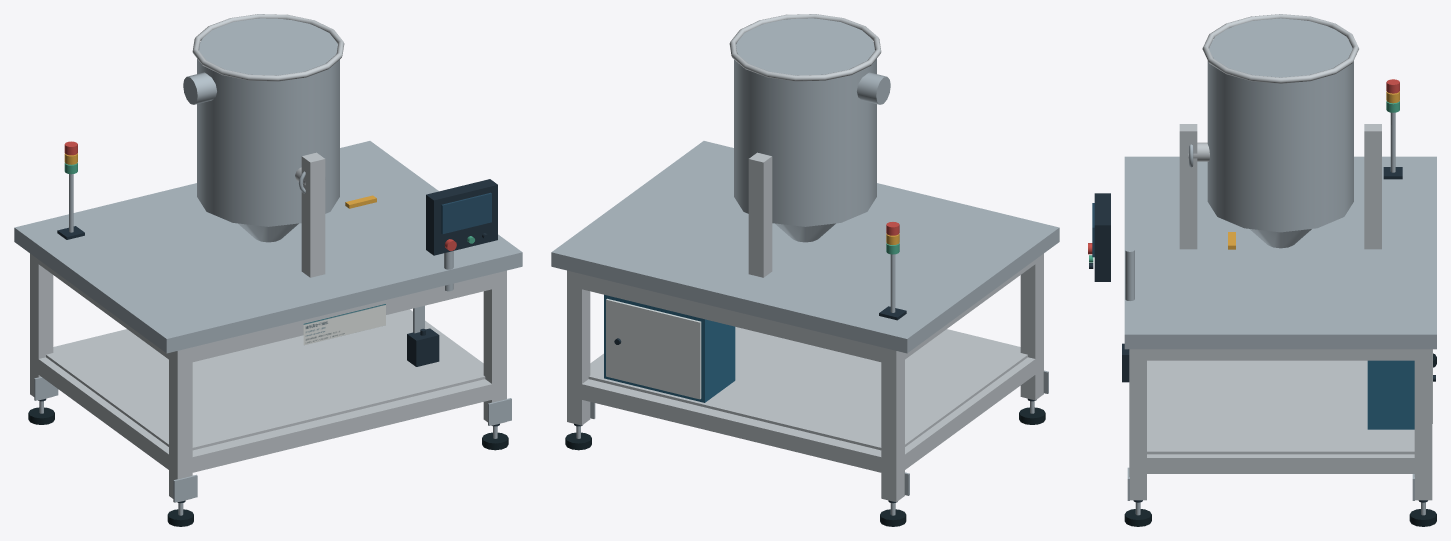
The model's file is conical-vacuum-dryer.glb.
3 views of the same model, side by side, from view 1: azimuth 30°, elevation 25°; view 2: azimuth 150°, elevation 25°; view 3: azimuth 270°, elevation 25° (orthographic). The views are drawn at different scales.
Parts seen in each view (by area): view 1: ClosedMachineBed_28, LowerShelf_29, ProcessShell_50, SlottedExtrusion_22, SlottedExtrusion_23, SlottedExtrusion_8, SlottedExtrusion_24, SlottedExtrusion_49, ConsoleBack_34, SlottedExtrusion_18, SlottedExtrusion_3, ServiceFlange_52 (+6 smaller); view 2: ClosedMachineBed_28, ProcessShell_50, LowerShelf_29, BackDoor_31, SlottedExtrusion_20, SlottedExtrusion_21, SlottedExtrusion_3, Cabinet_30, SlottedExtrusion_13, SlottedExtrusion_24, SlottedExtrusion_48, SlottedExtrusion_8 (+4 smaller); view 3: ClosedMachineBed_28, ProcessShell_50, LowerShelf_29, SlottedExtrusion_26, SlottedExtrusion_27, Cabinet_30, SlottedExtrusion_13, SlottedExtrusion_18, SlottedExtrusion_49, SlottedExtrusion_48, ServiceFlange_52, ConsoleBack_34 (+4 smaller).
Part boxes in pixels (x1,y1,x2,y2): ClosedMachineBed_28: (14, 141, 522, 353); LowerShelf_29: (46, 310, 485, 450); ProcessShell_50: (197, 18, 339, 226); SlottedExtrusion_22: (185, 379, 499, 473); SlottedExtrusion_23: (185, 272, 499, 363); SlottedExtrusion_8: (169, 347, 192, 502); SlottedExtrusion_24: (35, 357, 172, 469); SlottedExtrusion_49: (301, 152, 325, 277); ConsoleBack_34: (426, 179, 497, 255); SlottedExtrusion_18: (483, 270, 506, 425); SlottedExtrusion_3: (30, 253, 53, 400); ServiceFlange_52: (192, 14, 344, 81); ClosedMachineBed_28: (551, 141, 1059, 353); ProcessShell_50: (734, 18, 876, 226); LowerShelf_29: (588, 327, 1027, 450); BackDoor_31: (606, 298, 701, 399); SlottedExtrusion_20: (574, 379, 888, 473); SlottedExtrusion_21: (574, 272, 888, 362); SlottedExtrusion_3: (881, 347, 904, 502); Cabinet_30: (604, 294, 735, 402); SlottedExtrusion_13: (567, 270, 590, 425); SlottedExtrusion_24: (900, 357, 1035, 472); SlottedExtrusion_48: (748, 152, 772, 277); SlottedExtrusion_8: (1020, 253, 1043, 400); ClosedMachineBed_28: (1124, 156, 1436, 349); ProcessShell_50: (1207, 18, 1353, 232); LowerShelf_29: (1147, 360, 1414, 454); SlottedExtrusion_26: (1138, 454, 1423, 473); SlottedExtrusion_27: (1138, 349, 1423, 360); Cabinet_30: (1367, 360, 1414, 429); SlottedExtrusion_13: (1414, 349, 1432, 500); SlottedExtrusion_18: (1129, 349, 1146, 500); SlottedExtrusion_49: (1179, 124, 1197, 249); SlottedExtrusion_48: (1364, 124, 1381, 249); ServiceFlange_52: (1202, 14, 1358, 83); ConsoleBack_34: (1094, 193, 1110, 281).
Bounding box in the file's own units: 1.55 × 1.61 × 1.29.
Materials: 11 (1 with a texture image).
